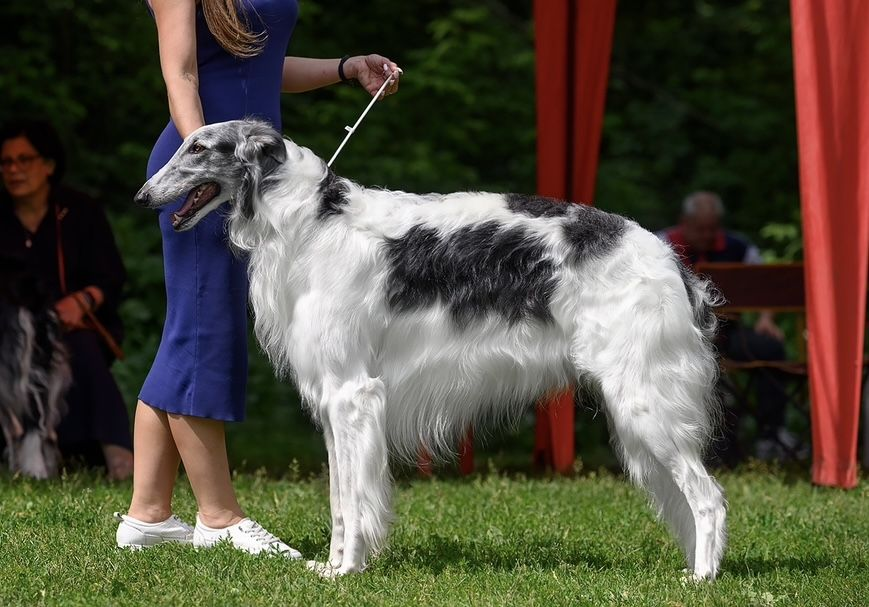borzoi: (136, 116, 721, 583)
